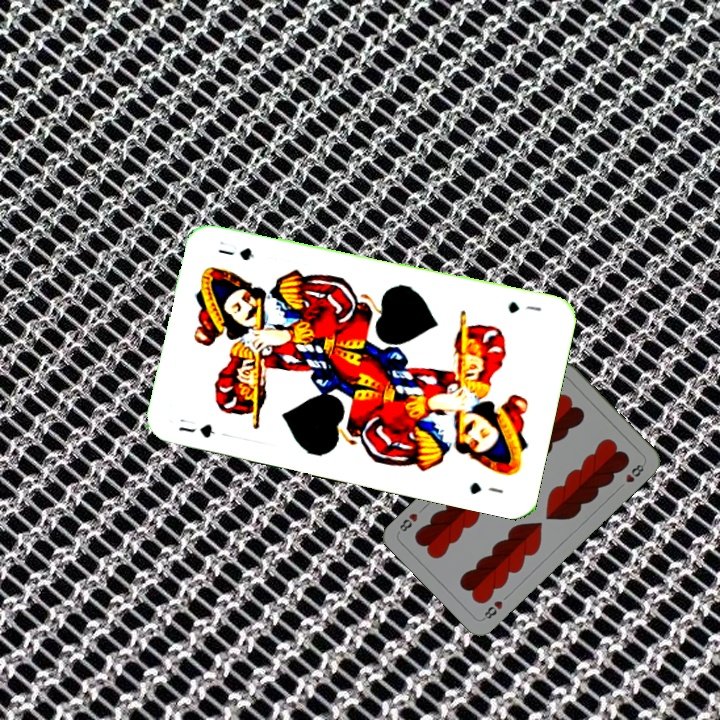GU: (174, 414, 217, 441), (504, 297, 544, 316)
H8: (478, 597, 505, 623)
